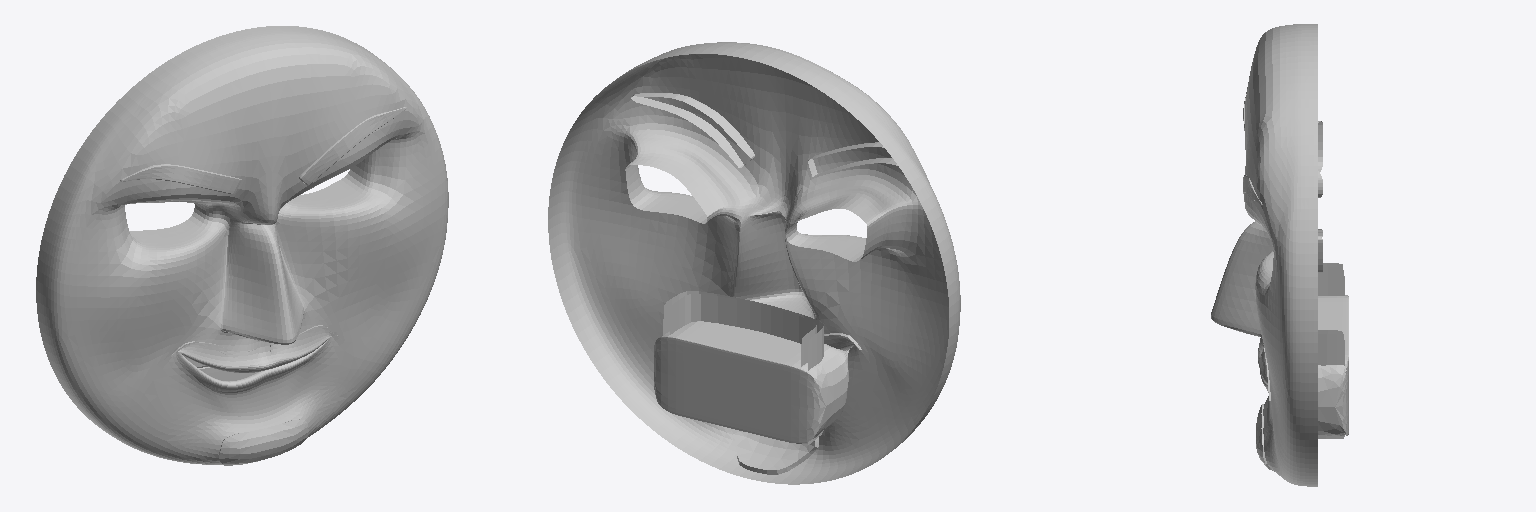
File: Cocky.obj
3 renders of one model, left to right at view 1: azimuth 30°, elevation 25°; view 2: azimuth 150°, elevation 25°; view 3: azimuth 270°, elevation 25°, orthographic.
Visible parts, largest first — view 1: Circle.051_Circle.080; view 2: Circle.051_Circle.080; view 3: Circle.051_Circle.080.
Part boxes in pixels (left/top/right/bottom): Circle.051_Circle.080: left=36, top=26, right=448, bottom=465; Circle.051_Circle.080: left=548, top=42, right=960, bottom=484; Circle.051_Circle.080: left=1211, top=24, right=1348, bottom=486.
Size of the model in its own units: 50.64 by 50.76 by 15.12.